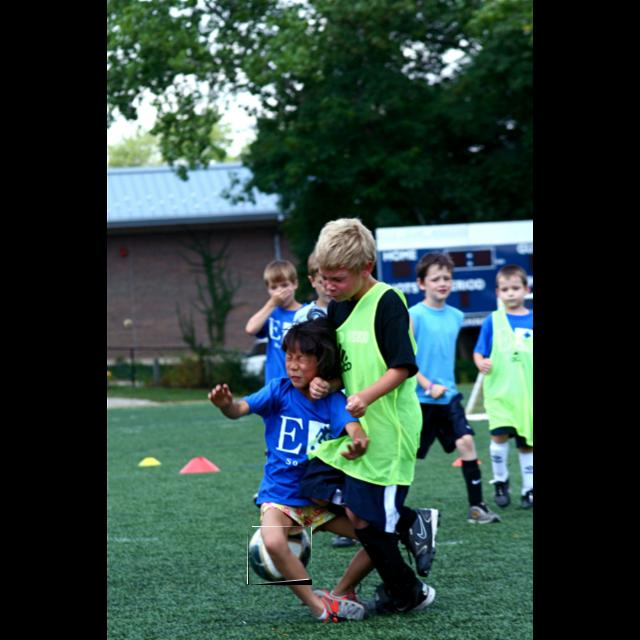Football: (248, 527, 312, 585)
